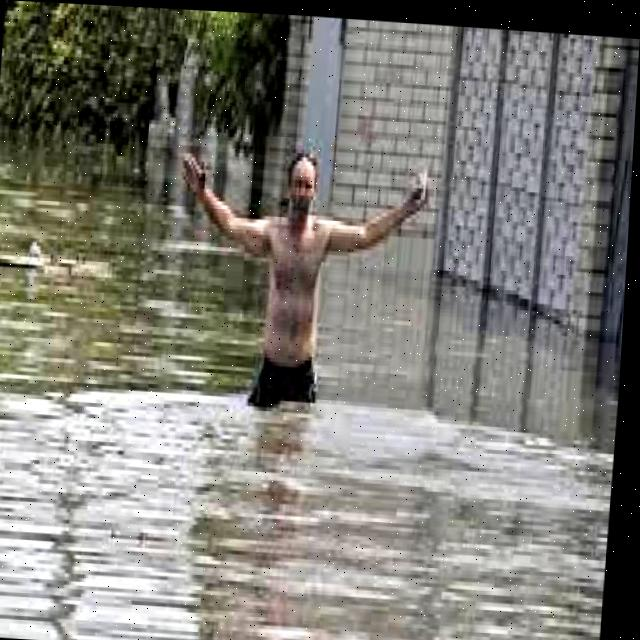civilian: (137, 131, 454, 424)
